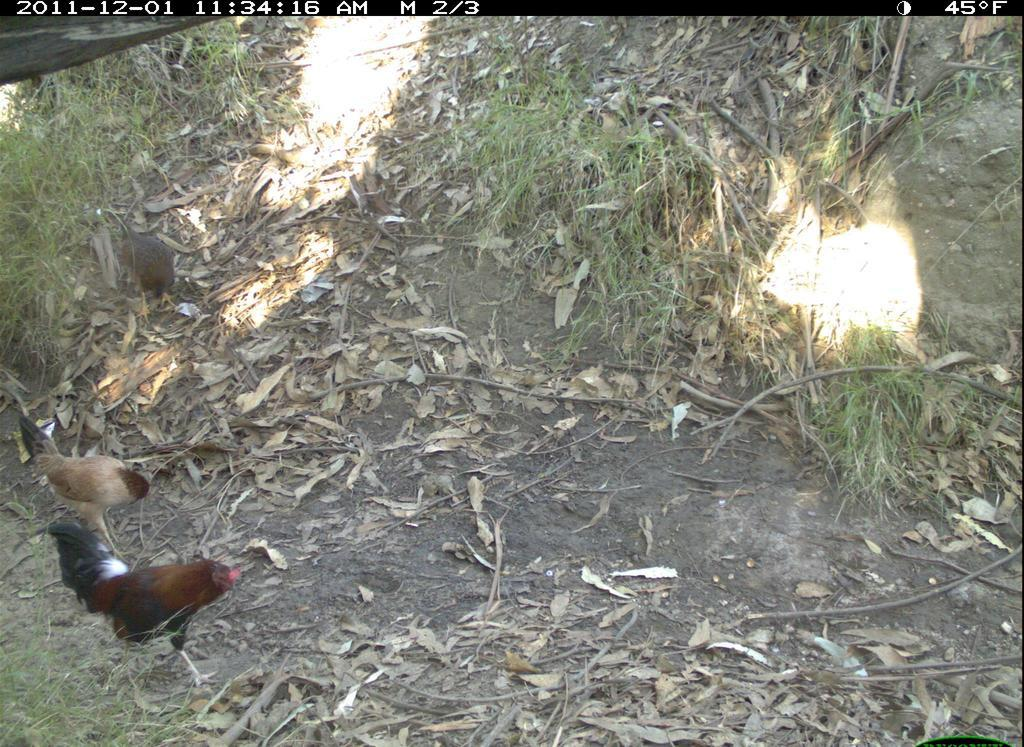bird: (44, 511, 258, 679), (13, 406, 164, 529), (107, 203, 199, 327)
